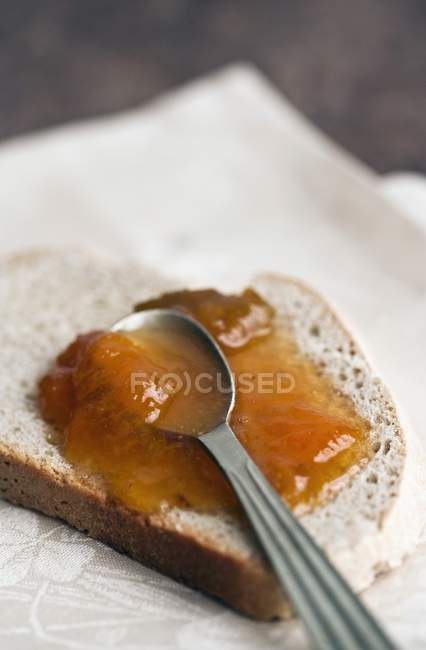slice of bread: (21, 440, 277, 610)
